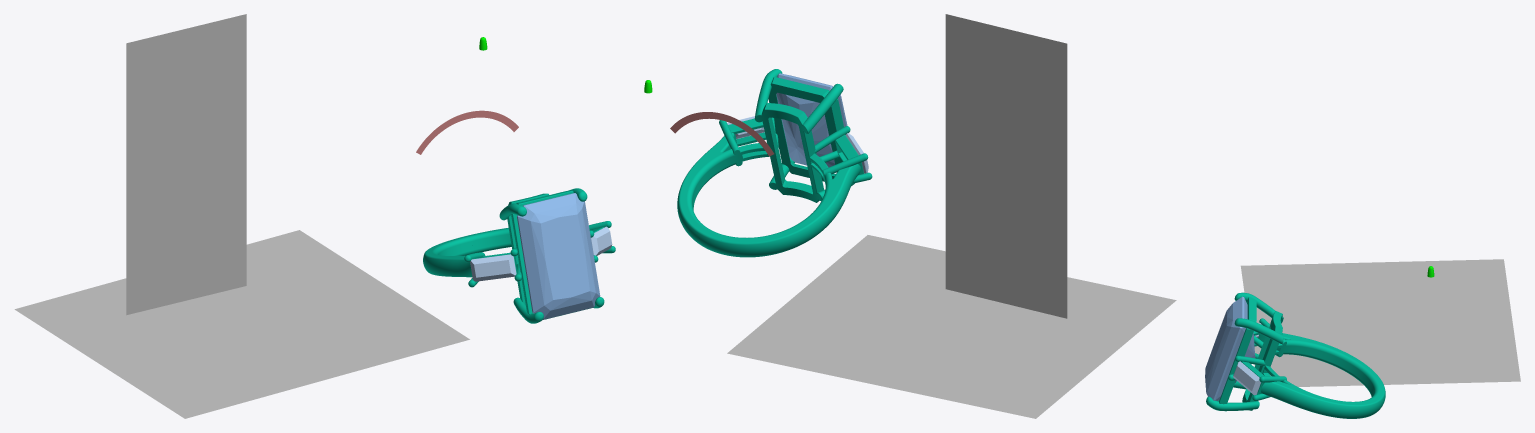
3 renders of one model, left to right at view 1: azimuth 30°, elevation 25°; view 2: azimuth 150°, elevation 25°; view 3: azimuth 270°, elevation 25°, orthographic. The views are drawn at different scales.
Parts seen in each view (by area): view 1: VR826 22.7.25(base).3dm, Diamond_Radiant, Diamond_Baguette Straight, Bezel; view 2: VR826 22.7.25(base).3dm, Bezel, Diamond_Radiant, Head Prong (×2); view 3: VR826 22.7.25(base).3dm, Diamond_Radiant, Head Prong (×3), Bezel, Diamond_Baguette Straight.
Part boxes in pixels (<box>): VR826 22.7.25(base).3dm: <box>14,14,548,418</box>; Diamond_Radiant: <box>517,193,600,319</box>; Diamond_Baguette Straight: <box>470,254,516,281</box>; Bezel: <box>511,190,591,319</box>; VR826 22.7.25(base).3dm: <box>644,14,1176,418</box>; Bezel: <box>768,77,843,181</box>; Diamond_Radiant: <box>776,73,847,172</box>; Head Prong (×2): <box>754,69,843,133</box>; VR826 22.7.25(base).3dm: <box>1240,259,1520,418</box>; Diamond_Radiant: <box>1205,296,1255,400</box>; Head Prong (×3): <box>1206,292,1283,411</box>; Bezel: <box>1218,297,1256,404</box>; Diamond_Baguette Straight: <box>1233,361,1260,395</box>.
Size of the model in its own units: 7 by 4.54 by 4.96.
